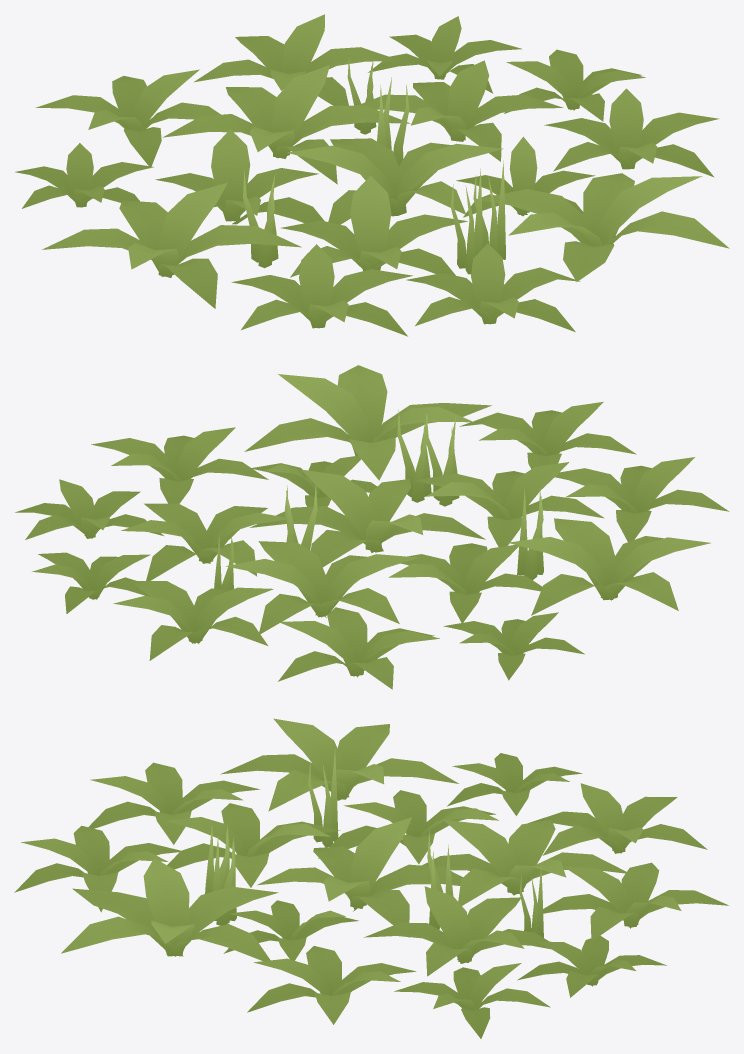
The model's file is Grass_02.fbx.
The picture shows the model from 3 angles, top to bottom: view 1: azimuth 30°, elevation 25°; view 2: azimuth 150°, elevation 25°; view 3: azimuth 270°, elevation 25°; orthographic projection. The views are drawn at different scales.
Parts seen in each view (by area): view 1: Grass_02_LOD0; view 2: Grass_02_LOD0; view 3: Grass_02_LOD0.
Part boxes in pixels (x1,y1,x2,y2): Grass_02_LOD0: (15, 14, 729, 336); Grass_02_LOD0: (15, 365, 729, 689); Grass_02_LOD0: (14, 718, 728, 1038).
Size of what is drawn, in the model's own units: 0.9287 by 0.1342 by 0.9451.
